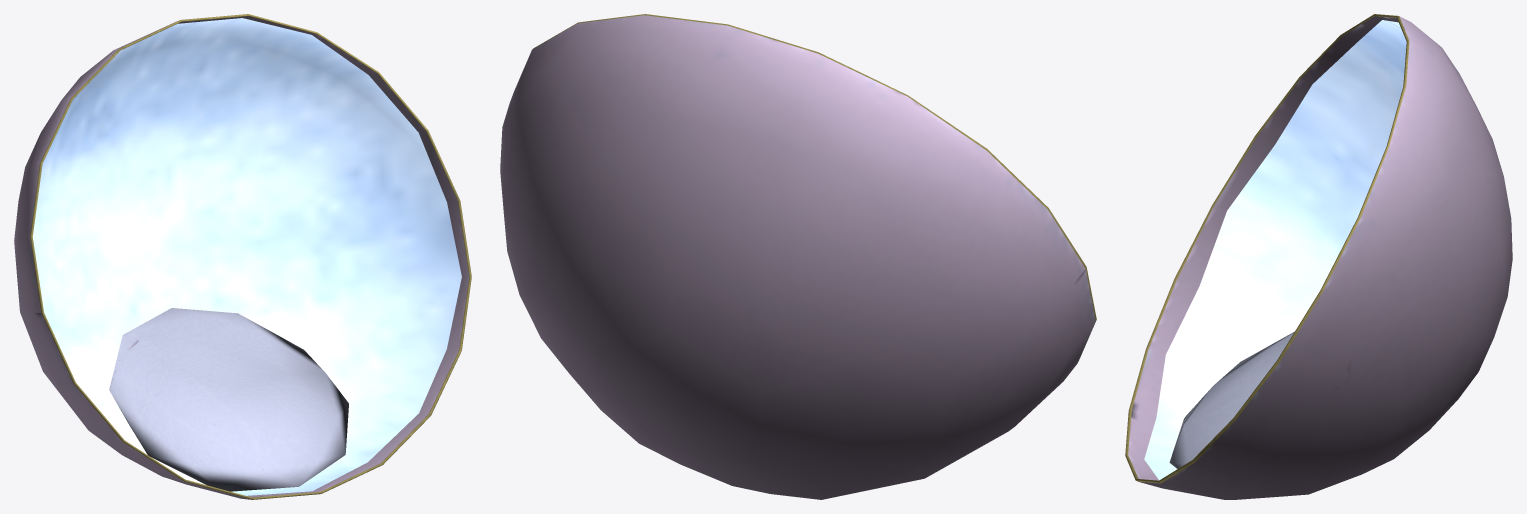
File: FloatingLoungeChair.glb
3 renders of one model, left to right at view 1: azimuth 30°, elevation 25°; view 2: azimuth 150°, elevation 25°; view 3: azimuth 270°, elevation 25°, orthographic. The views are drawn at different scales.
Parts seen in each view (by area): view 1: Icosphere.001, Icosphere.002; view 2: Icosphere.001; view 3: Icosphere.001, Icosphere.002.
Part boxes in pixels (left/top/right/bottom): Icosphere.001: left=14, top=14, right=471, bottom=499; Icosphere.002: left=109, top=308, right=348, bottom=491; Icosphere.001: left=500, top=14, right=1096, bottom=499; Icosphere.001: left=1125, top=14, right=1512, bottom=499; Icosphere.002: left=1169, top=332, right=1294, bottom=468.
Size of what is drawn, in the model's own units: 1.72 by 1.55 by 1.25.
3 materials, 3 textured.
